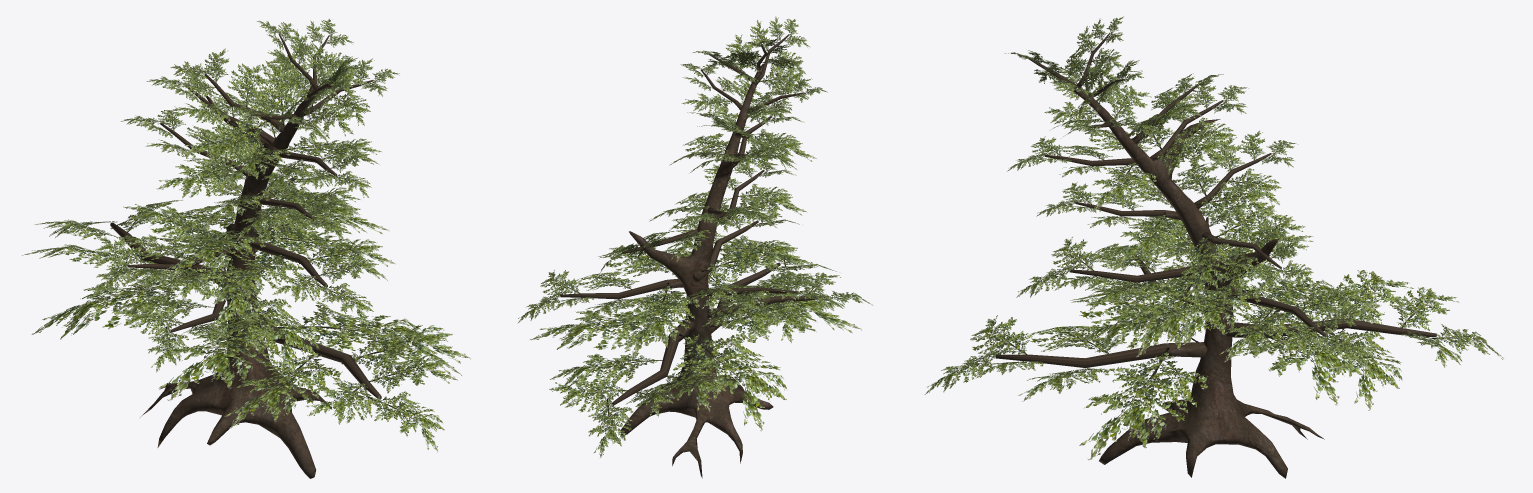
Rendered from treeSculpt.fbx.
The picture shows the model from 3 angles, left to right: view 1: azimuth 30°, elevation 25°; view 2: azimuth 150°, elevation 25°; view 3: azimuth 270°, elevation 25°; orthographic projection. The views are drawn at different scales.
Parts seen in each view (by area): view 1: Cube; view 2: Cube; view 3: Cube.
Part boxes in pixels (x1,y1,x2,y2): Cube: [22, 18, 470, 478]; Cube: [517, 16, 872, 478]; Cube: [924, 16, 1503, 478].
Size of the model in its own units: 1213 by 792 by 979.
